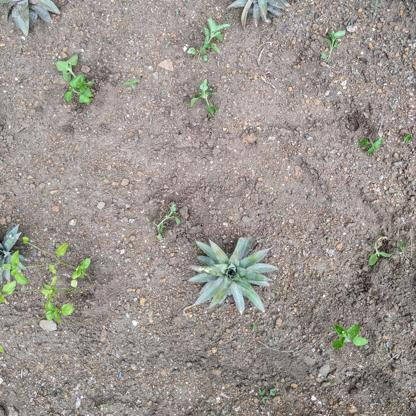pineapple: (187, 236, 281, 320), (1, 1, 63, 35), (227, 1, 294, 25)
weed: (1, 221, 98, 325), (51, 53, 96, 109), (356, 127, 416, 162), (331, 319, 375, 352), (187, 77, 219, 122), (150, 197, 185, 235), (194, 17, 228, 56), (366, 228, 396, 266)
